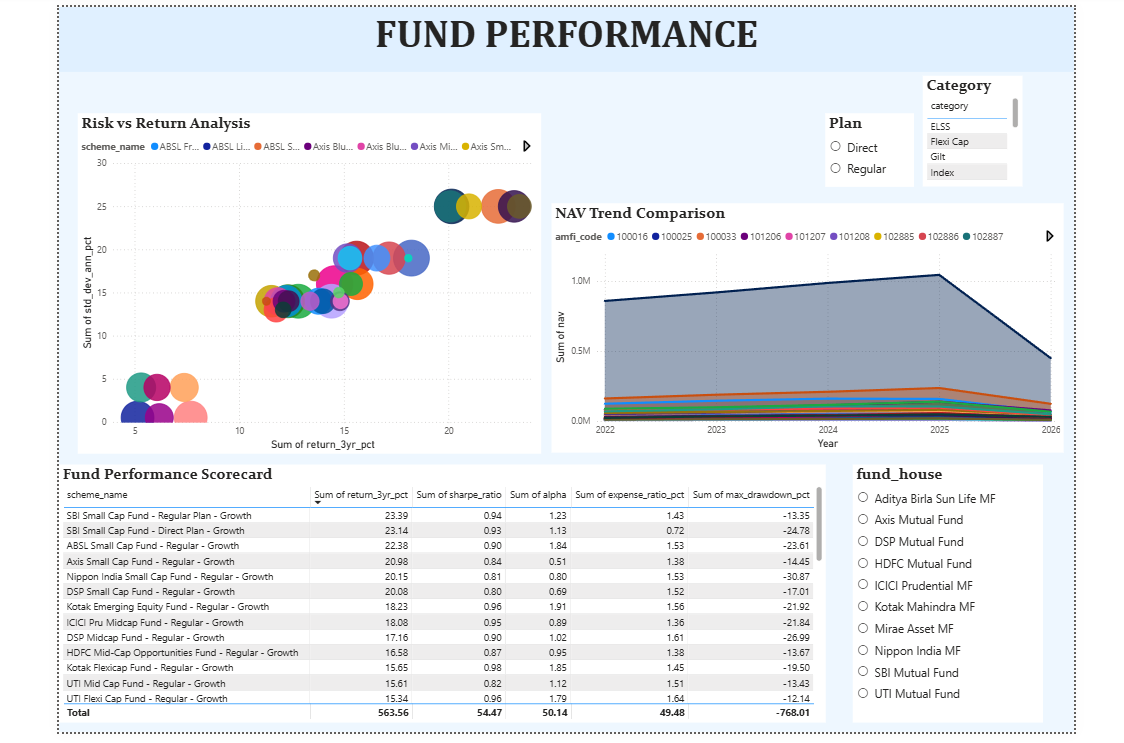

What the dashboard file says about the page in this screenshot:
{"tool":"powerbi","page":{"name":"Fund Performance","canvas":[1400,1000],"ordinal":1},"visuals":[{"type":"scatterChart","title":"Risk vs Return Analysis","fields":{"X":["Sum(07_scheme_performance.return_3yr_pct)"],"Y":["Sum(07_scheme_performance.std_dev_ann_pct)"],"Size":["Sum(07_scheme_performance.aum_crore)"],"Series":["07_scheme_performance.scheme_name"]},"box":[25.4,145.8,639,469.5],"z":0},{"type":"textbox","box":[0,0,1400,89.8],"z":1000},{"type":"tableEx","title":"Fund Performance Scorecard","fields":{"Values":["07_scheme_performance.scheme_name","Sum(07_scheme_performance.return_3yr_pct)","Sum(07_scheme_performance.sharpe_ratio)","Sum(07_scheme_performance.alpha)","Sum(07_scheme_performance.expense_ratio_pct)","Sum(07_scheme_performance.max_drawdown_pct)"]},"box":[0,630.5,1057.6,355.9],"z":2000},{"type":"lineChart","title":"NAV Trend Comparison","fields":{"Category":["02_nav_history.date.Variation.Date Hierarchy.Year","02_nav_history.date.Variation.Date Hierarchy.Quarter","02_nav_history.date.Variation.Date Hierarchy.Month","02_nav_history.date.Variation.Date Hierarchy.Day"],"Y":["Sum(02_nav_history.nav)"],"Series":["02_nav_history.amfi_code"]},"box":[679.7,271.2,706.8,344.1],"z":3000},{"type":"listSlicer","fields":{"Values":["07_scheme_performance.fund_house"]},"box":[1094.9,630.5,262.7,355.9],"z":4000},{"type":"listSlicer","title":"Plan","fields":{"Values":["07_scheme_performance.plan"]},"box":[1057.6,145.8,122,101.7],"z":5000},{"type":"tableEx","title":"Category","fields":{"Values":["07_scheme_performance.category"]},"box":[1191.5,94.9,137.3,152.5],"z":6000}]}

Visuals, with their boxes on the page's 1400x1000 design canvas (x1, y1, x2, y2). These are canvas units, not pixel positions in the 1124x743 screenshot, which may show the page scaled, cropped or inside an application window:
"Risk vs Return Analysis" scatterChart: [x1=25, y1=146, x2=664, y2=615]
textbox: [x1=0, y1=0, x2=1400, y2=90]
"Fund Performance Scorecard" tableEx: [x1=0, y1=630, x2=1058, y2=986]
"NAV Trend Comparison" lineChart: [x1=680, y1=271, x2=1386, y2=615]
listSlicer - 07_scheme_performance.fund_house: [x1=1095, y1=630, x2=1358, y2=986]
"Plan" listSlicer: [x1=1058, y1=146, x2=1180, y2=248]
"Category" tableEx: [x1=1192, y1=95, x2=1329, y2=247]
